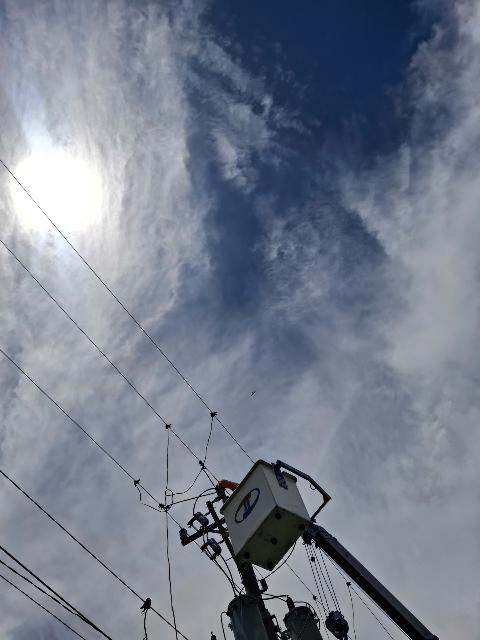gloves: (212, 485, 221, 494)
